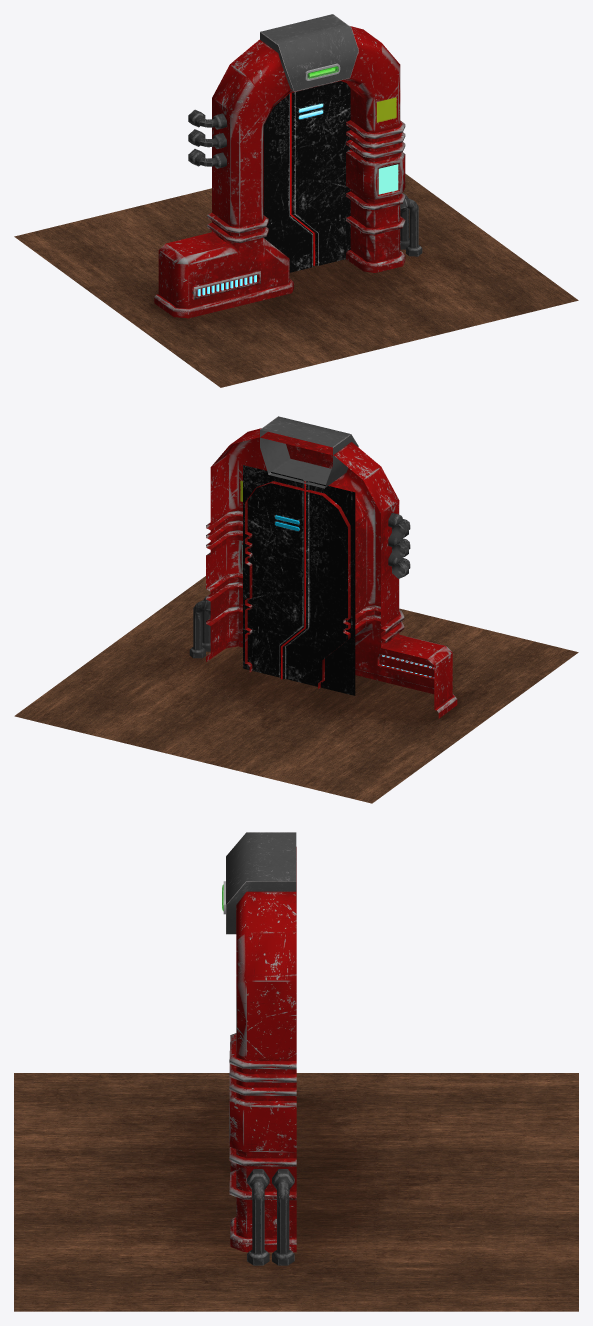
Rendered from sci-fi_door.glb.
3 renders of one model, top to bottom at view 1: azimuth 30°, elevation 25°; view 2: azimuth 150°, elevation 25°; view 3: azimuth 270°, elevation 25°, orthographic. The views are drawn at different scales.
Visible parts, largest first — view 1: pPlane1, polySurface24, polySurface1, pCube1, polySurface30, polySurface25, pCube4; view 2: pPlane1, polySurface24, polySurface1, pCube1, polySurface30; view 3: pPlane1, polySurface24, pCube1, polySurface30.
Part boxes in pixels (box(x1,y1,x2,y2)): pPlane1: box(14, 173, 578, 387); polySurface24: box(154, 26, 405, 318); polySurface1: box(263, 81, 350, 272); pCube1: box(260, 14, 358, 91); polySurface30: box(188, 109, 422, 256); polySurface25: box(378, 164, 398, 194); pCube4: box(197, 103, 322, 296); pPlane1: box(14, 576, 578, 803); polySurface24: box(206, 428, 457, 718); polySurface1: box(243, 465, 355, 695); pCube1: box(260, 416, 358, 488); polySurface30: box(189, 513, 410, 658); pPlane1: box(14, 1073, 578, 1311); polySurface24: box(229, 847, 296, 1252); pCube1: box(226, 832, 296, 934); polySurface30: box(247, 1169, 294, 1265).
Bounding box in the file's own units: 76.67 × 50.6 × 76.67.
Materials: 10 (10 with a texture image).
